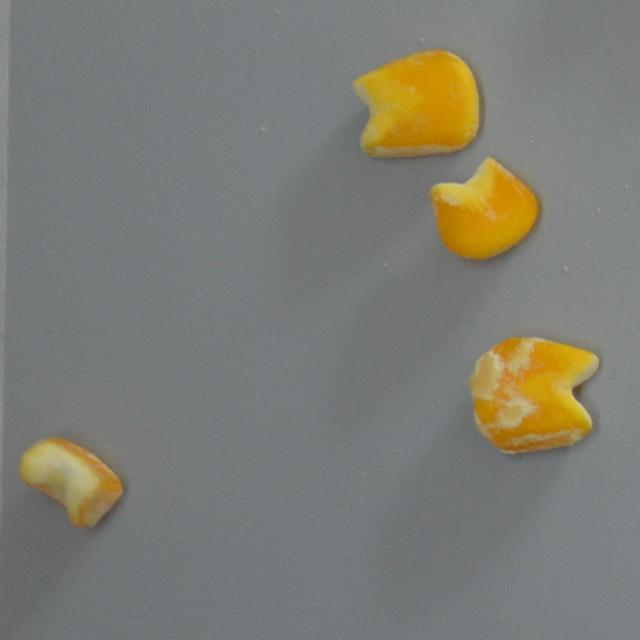no_canjicado: (429, 156, 539, 261)
pelicula: (468, 334, 598, 452), (350, 49, 482, 155), (20, 436, 123, 527)
